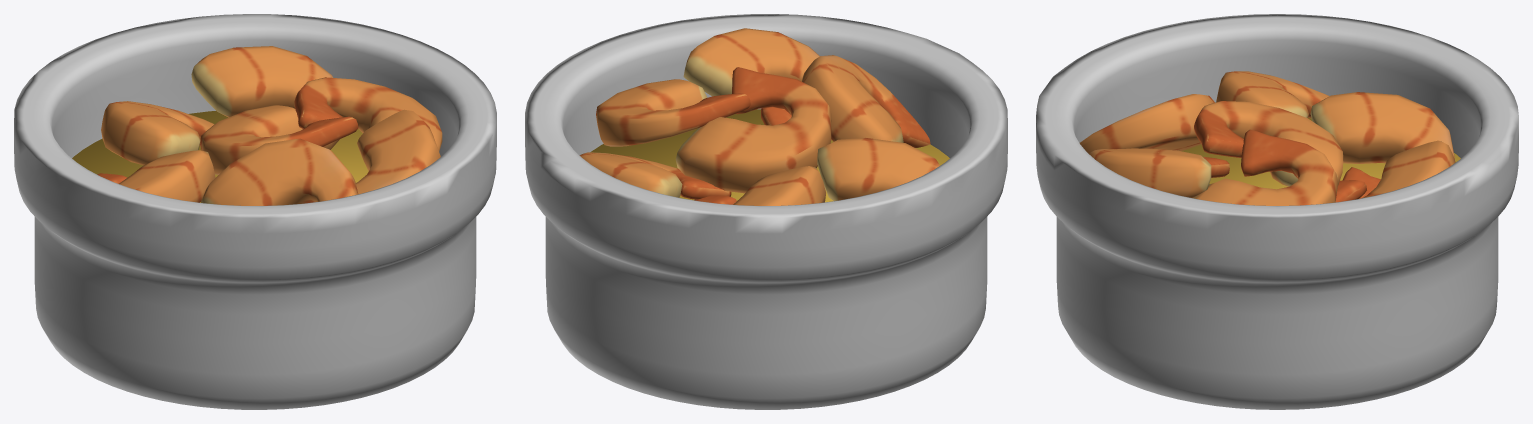
Rendered from GarlicButterShrimp.fbx.
The picture shows the model from 3 angles, left to right: view 1: azimuth 30°, elevation 25°; view 2: azimuth 150°, elevation 25°; view 3: azimuth 270°, elevation 25°; orthographic projection.
Parts seen in each view (by area): view 1: ShrimpBowl, Shrimp.006, Shrimp, Shrimp.003, Shrimp.002, Shrimp.004, Shrimp.005, Shrimp.001, ShrimpOil; view 2: ShrimpBowl, Shrimp.003, Shrimp.004, Shrimp.006, Shrimp.005, Shrimp.001, Shrimp, Shrimp.002, ShrimpOil; view 3: ShrimpBowl, Shrimp.002, Shrimp.004, Shrimp.003, Shrimp.006, Shrimp.005, Shrimp, Shrimp.001, ShrimpOil.
Boxes of the visible parts, x1,y1,x2,y2 form: ShrimpBowl: [14, 14, 496, 409]; Shrimp.006: [200, 138, 358, 205]; Shrimp: [191, 46, 339, 149]; Shrimp.003: [200, 105, 358, 174]; Shrimp.002: [101, 101, 214, 165]; Shrimp.004: [294, 77, 442, 151]; Shrimp.005: [356, 109, 440, 194]; Shrimp.001: [97, 150, 215, 202]; ShrimpOil: [72, 111, 368, 202]; ShrimpBowl: [525, 14, 1007, 409]; Shrimp.003: [675, 67, 831, 193]; Shrimp.004: [596, 79, 750, 146]; Shrimp.006: [801, 55, 930, 147]; Shrimp.005: [683, 28, 819, 125]; Shrimp.001: [817, 138, 939, 200]; Shrimp: [579, 152, 731, 199]; Shrimp.002: [694, 166, 825, 205]; ShrimpOil: [590, 109, 949, 202]; ShrimpBowl: [1036, 14, 1518, 409]; Shrimp.002: [1310, 92, 1454, 198]; Shrimp.004: [1193, 129, 1337, 205]; Shrimp.003: [1194, 101, 1343, 186]; Shrimp.006: [1079, 94, 1214, 153]; Shrimp.005: [1089, 148, 1229, 198]; Shrimp: [1335, 140, 1455, 202]; Shrimp.001: [1216, 71, 1329, 118]; ShrimpOil: [1181, 117, 1460, 189].
Bounding box in the file's own units: 56.22 × 29.02 × 56.22.
Materials: 9 (9 with a texture image).
